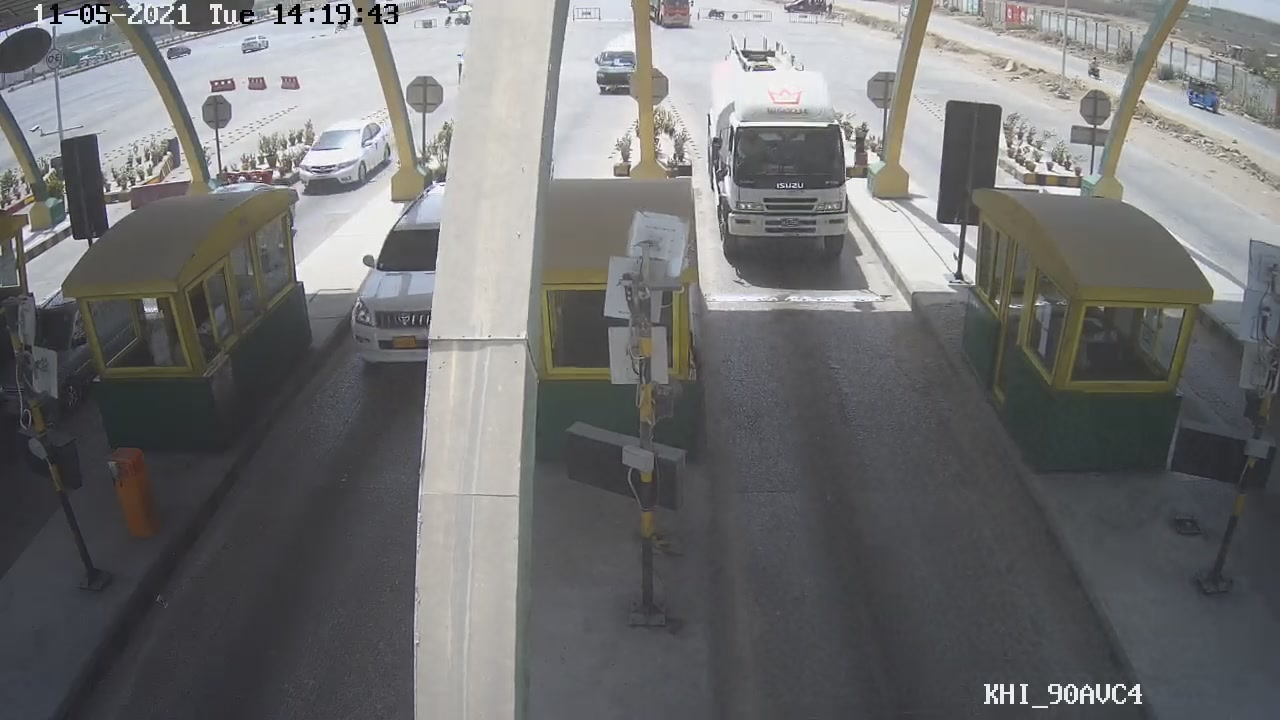F6: (704, 66, 847, 259)
